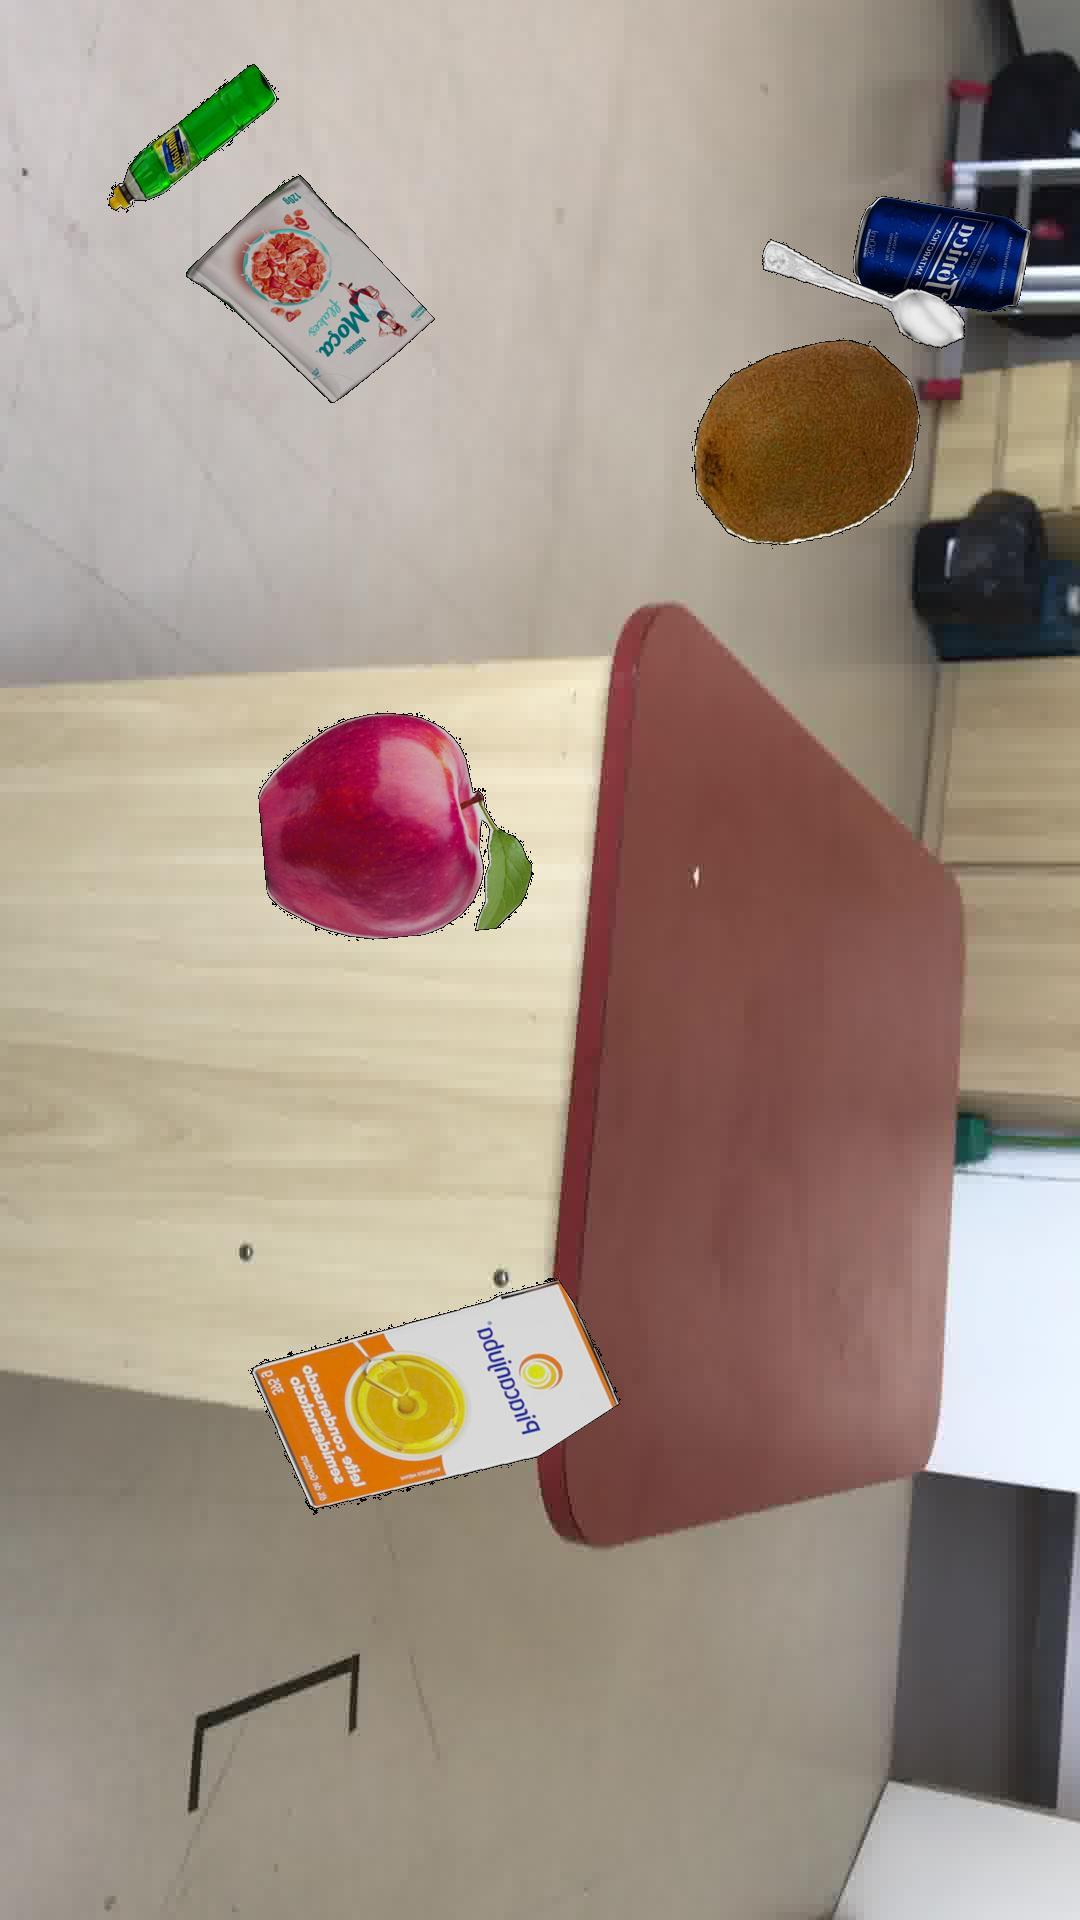apple: (257, 711, 533, 939)
cleaner: (107, 62, 277, 210)
corn flakes: (185, 174, 434, 401)
kiwi: (692, 338, 919, 543)
spoon: (761, 237, 964, 348)
tonic: (852, 195, 1030, 310)
